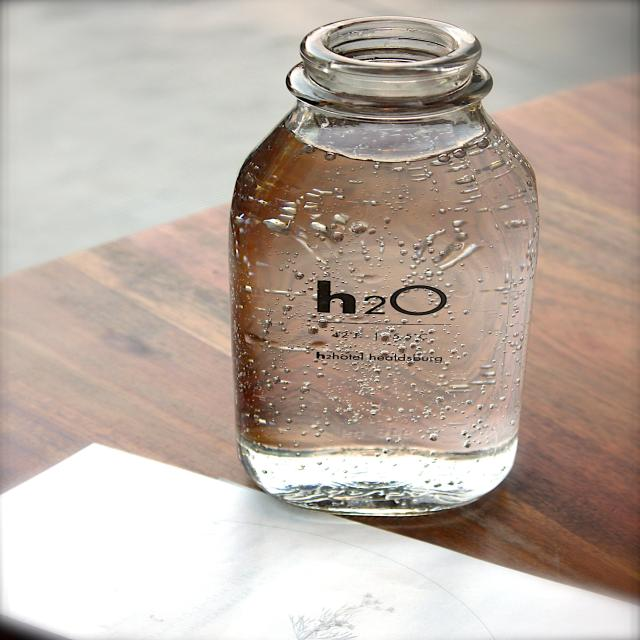Bottle: (231, 17, 537, 515)
